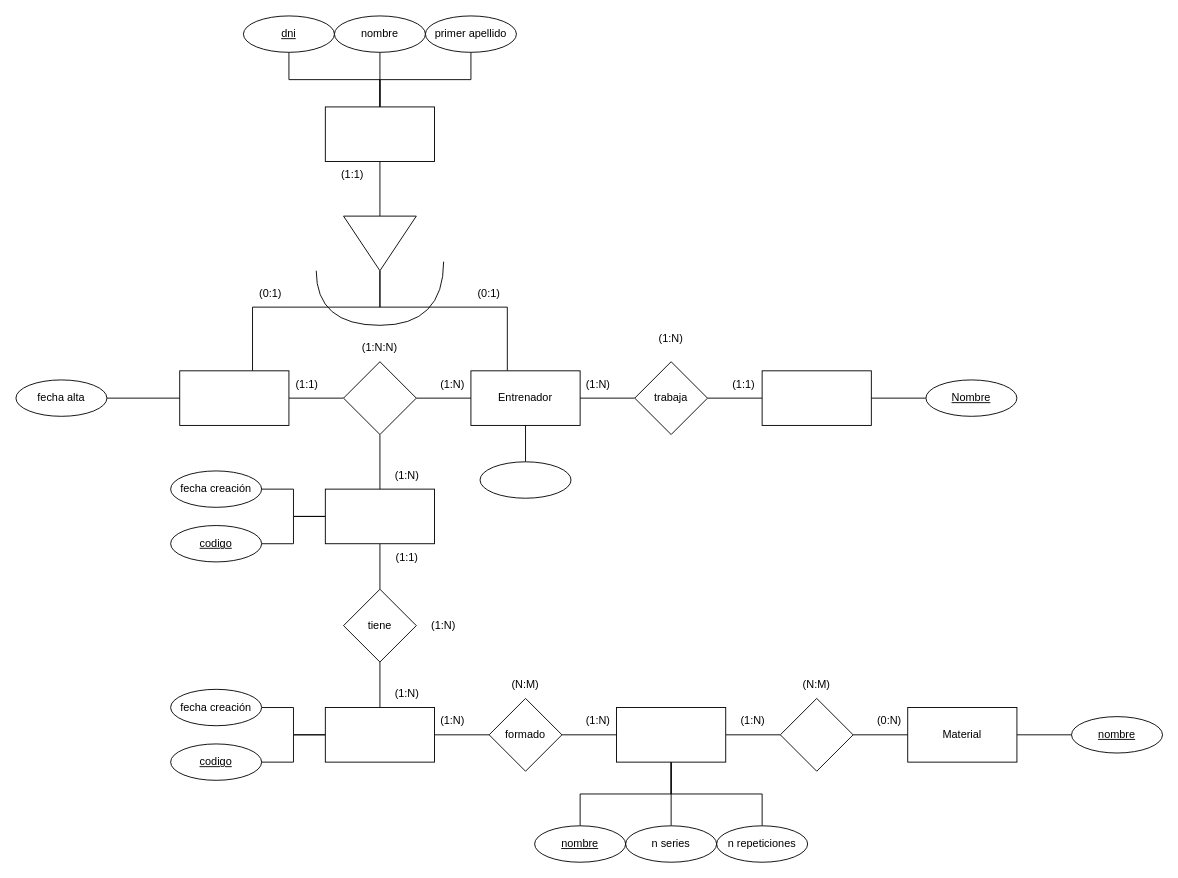
This 1178x878 diagram has some shape labels left out. The shapes that lost their labels are listed below. From the top down, each one's box as (x1, y1, x2, y2) in pixels, then its label:
(324, 106, 435, 162): Persona
(179, 370, 289, 425): Cliente
(343, 361, 416, 435): crea
(761, 370, 871, 425): Gimnasio
(479, 461, 571, 498): salario
(324, 488, 435, 544): Planificacion
(324, 707, 435, 762): Entrenamiento
(616, 707, 726, 762): Ejercicio
(779, 698, 853, 771): usa
